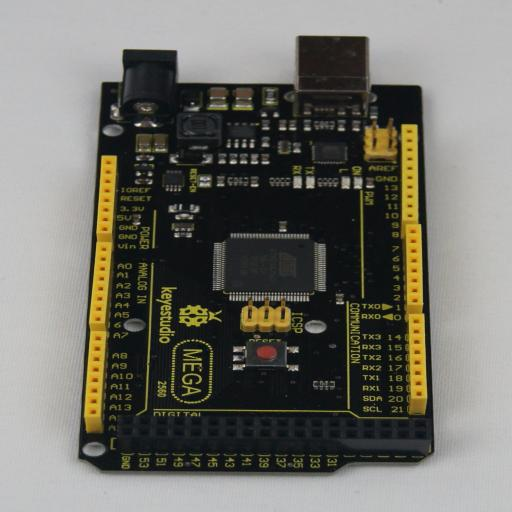ARMCORTEXM3: (78, 36, 434, 476)
